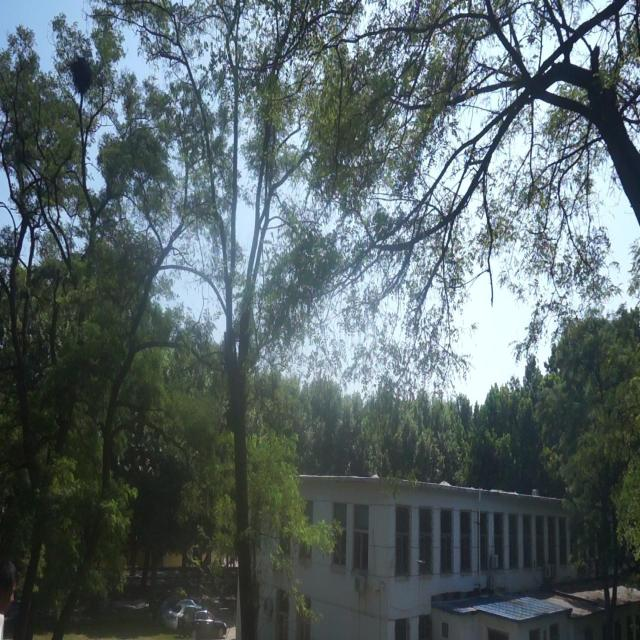drone: (415, 556, 426, 569)
